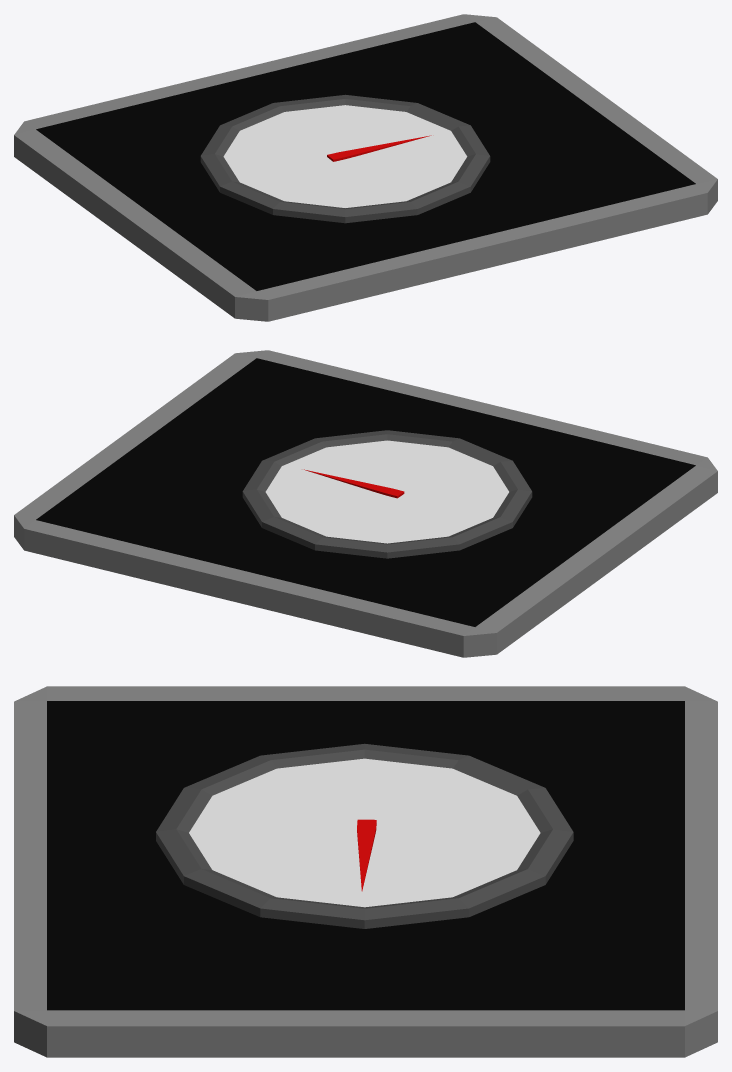
File: WeightScale.002.fbx
The picture shows the model from 3 angles, top to bottom: view 1: azimuth 30°, elevation 25°; view 2: azimuth 150°, elevation 25°; view 3: azimuth 270°, elevation 25°; orthographic projection. The views are drawn at different scales.
Visible parts, largest first — view 1: WeightScale.002; view 2: WeightScale.002; view 3: WeightScale.002.
Part boxes in pixels (left/top/right/bottom): WeightScale.002: left=14, top=14, right=717, bottom=321; WeightScale.002: left=14, top=350, right=717, bottom=657; WeightScale.002: left=14, top=686, right=717, bottom=1057.
Size of the model in its own units: 38.4 by 2.34 by 33.62.
